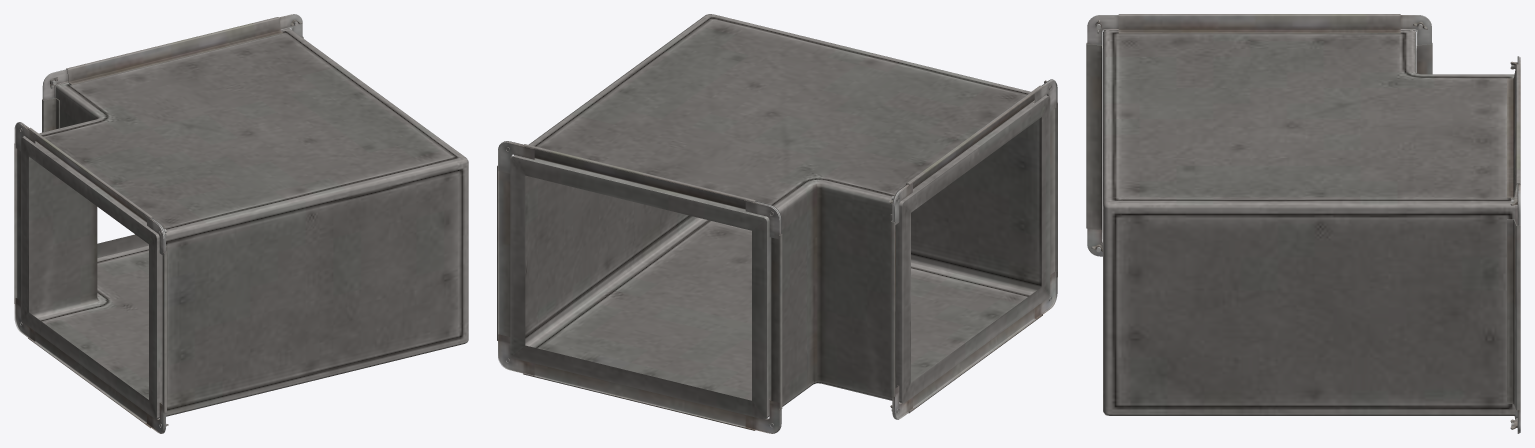
Rendered from corner_02.gltf.
The picture shows the model from 3 angles, left to right: view 1: azimuth 30°, elevation 25°; view 2: azimuth 150°, elevation 25°; view 3: azimuth 270°, elevation 25°; orthographic projection. The views are drawn at different scales.
Parts seen in each view (by area): view 1: corner_02; view 2: corner_02; view 3: corner_02.
Boxes of the visible parts, x1,y1,x2,y2 form: corner_02: (14,14,468,433); corner_02: (497,14,1057,433); corner_02: (1086,14,1520,433).
Size of the model in its own units: 0.8317 by 0.5126 by 0.8317.
Materials: 2 (2 with a texture image).
